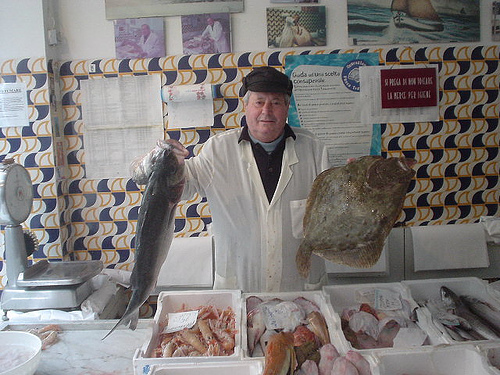fish: (99, 139, 188, 341), (291, 150, 419, 277), (439, 285, 499, 342), (262, 329, 294, 374)
